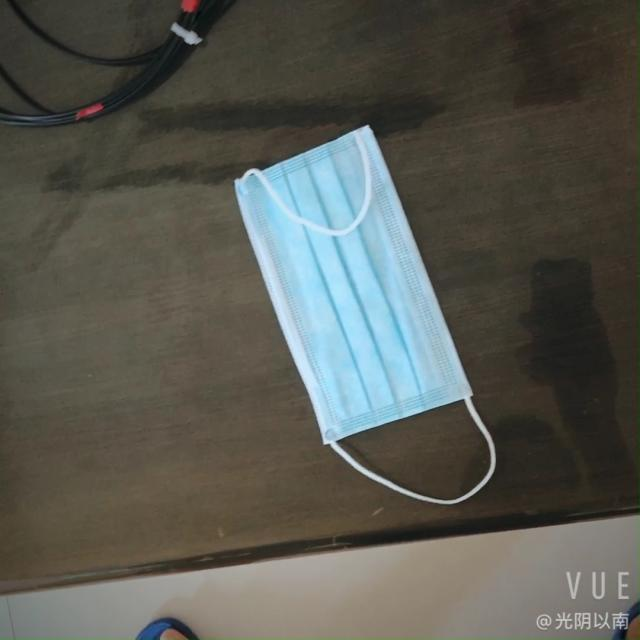face mask: (216, 118, 471, 452)
